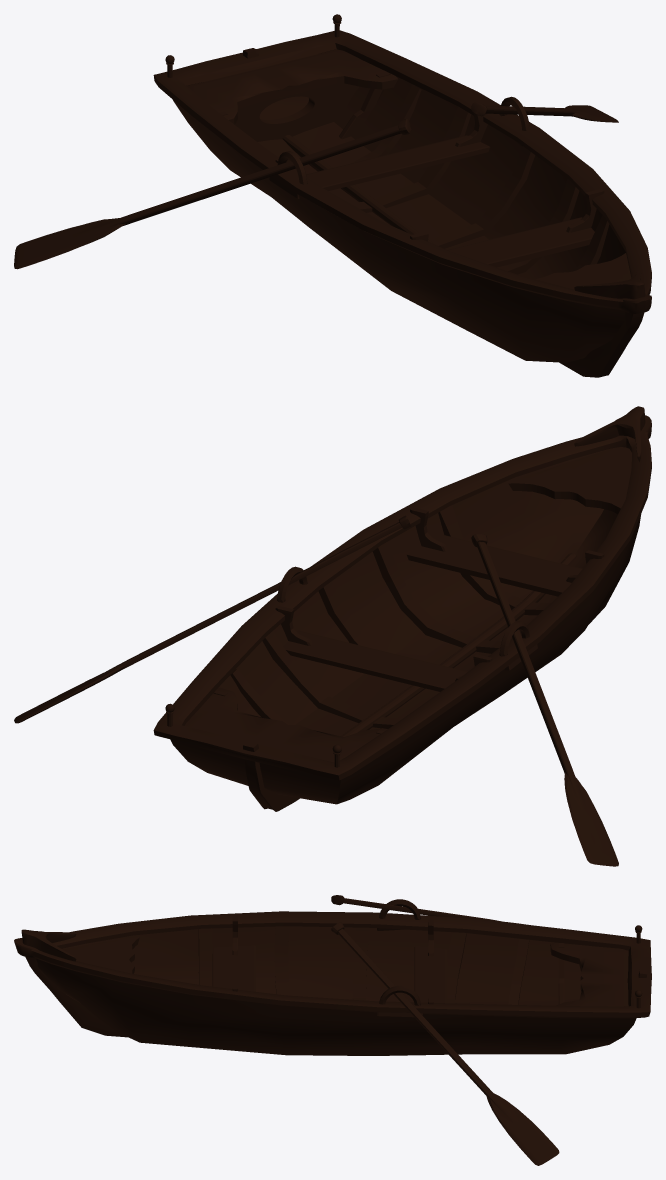
File: Boat1.obj
3 views of the same model, one above another, from view 1: azimuth 30°, elevation 25°; view 2: azimuth 150°, elevation 25°; view 3: azimuth 270°, elevation 25° (orthographic). The views are drawn at different scales.
Parts seen in each view (by area): view 1: Retopo_Cube.006_mesh.009; view 2: Retopo_Cube.006_mesh.009; view 3: Retopo_Cube.006_mesh.009.
Boxes of the visible parts, left/top/right/bottom form: Retopo_Cube.006_mesh.009: left=14, top=14, right=651, bottom=377; Retopo_Cube.006_mesh.009: left=14, top=406, right=651, bottom=866; Retopo_Cube.006_mesh.009: left=14, top=895, right=651, bottom=1165.
Size of the model in its own units: 9.64 by 2.68 by 11.09.
